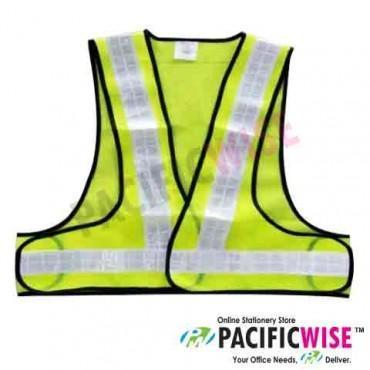vest: (17, 29, 354, 298)
